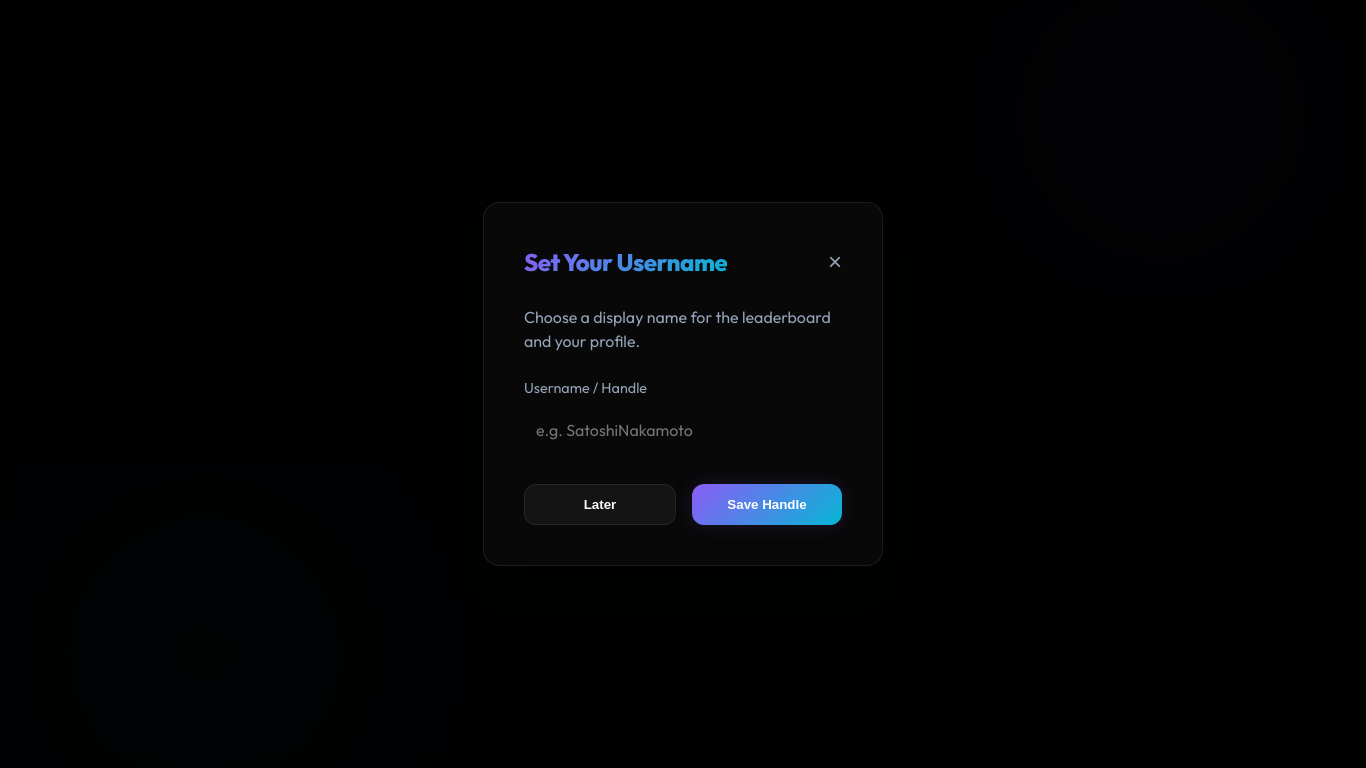
Test case: HandleModal › shows error message if update fails
This screenshot has width=1366, height=768.
Type "TakenUser" into the field with placeholder "e.g. SatoshiNakamoto" at (683, 430), box [524,408,842,452]
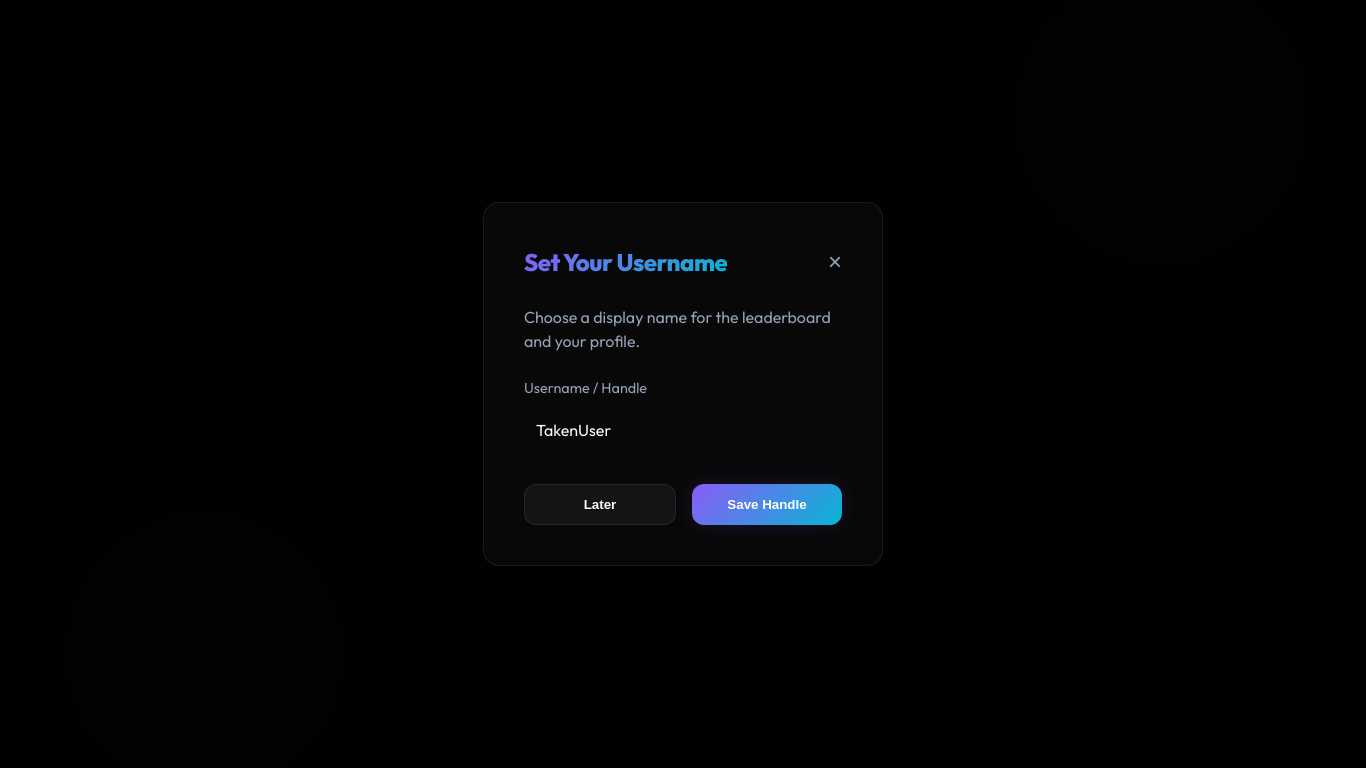
Click the button "Save Handle" at (767, 505), box [692,484,842,525]
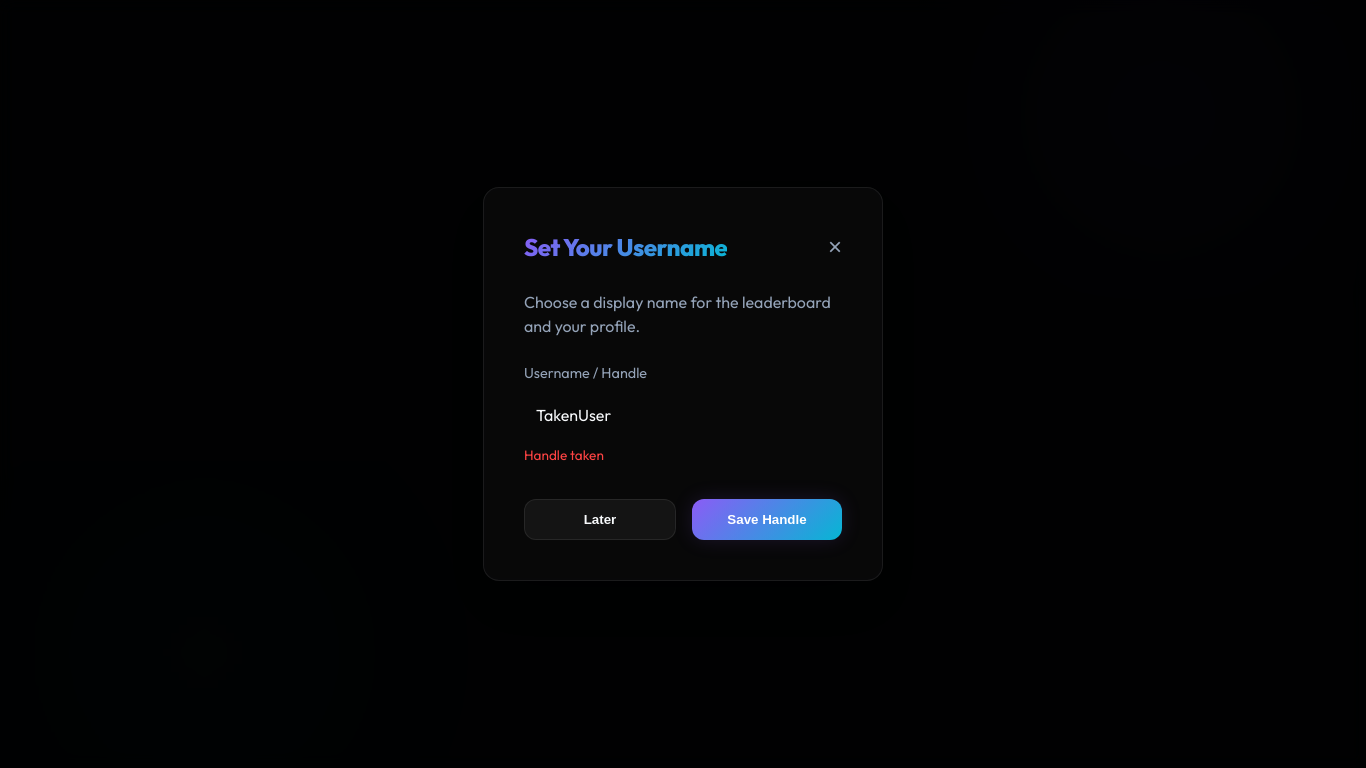
Expected: the text "Handle taken" is shown, [524,446,604,464]
